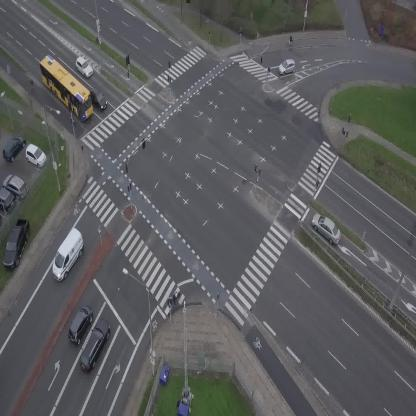bicycle: (168, 290, 182, 306), (28, 79, 35, 93), (286, 34, 294, 44)
bus: (31, 52, 102, 123)
car: (75, 316, 116, 374), (63, 302, 97, 347), (307, 210, 347, 247), (86, 85, 110, 113), (71, 56, 95, 79), (276, 57, 298, 76)
lorry: (43, 227, 93, 285)
